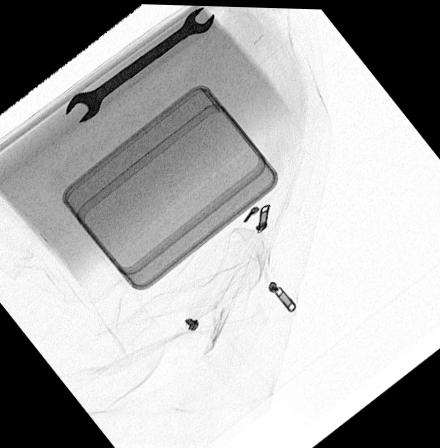Wrench: (64, 5, 215, 120)
